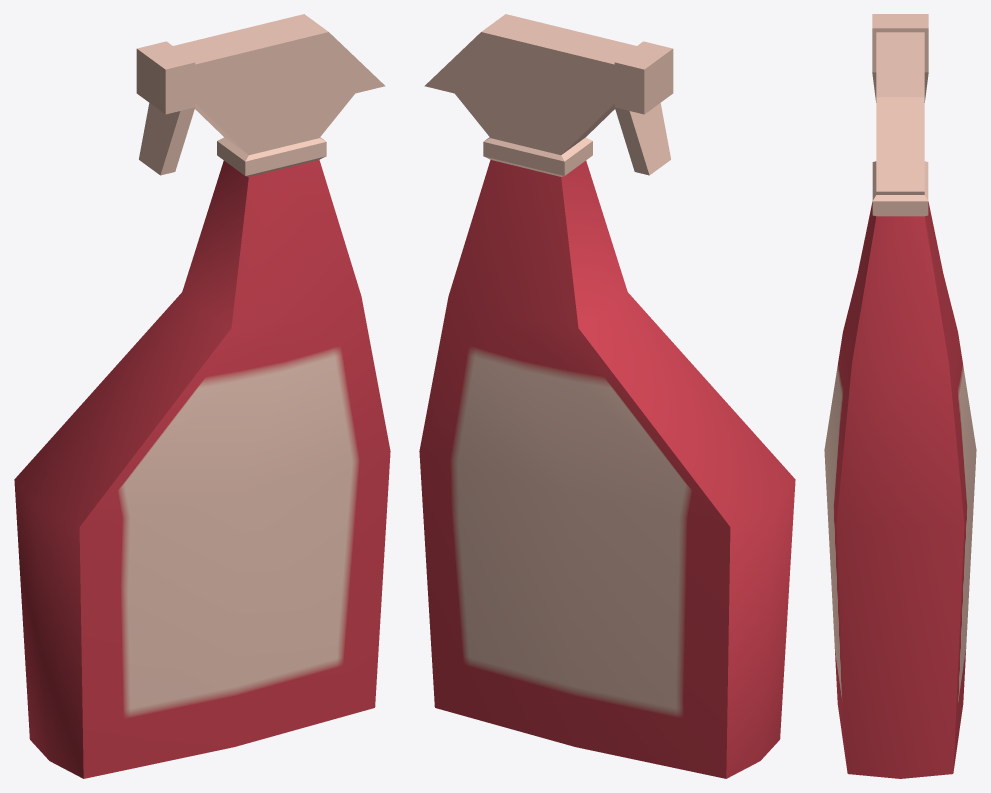
The model's file is SM_Detergent_1_01.fbx.
3 renders of one model, left to right at view 1: azimuth 30°, elevation 25°; view 2: azimuth 150°, elevation 25°; view 3: azimuth 270°, elevation 25°, orthographic.
Visible parts, largest first — view 1: SM_Detergent_1_01; view 2: SM_Detergent_1_01; view 3: SM_Detergent_1_01.
Part boxes in pixels (left/top/right/bottom): SM_Detergent_1_01: left=14, top=14, right=390, bottom=778; SM_Detergent_1_01: left=419, top=14, right=795, bottom=778; SM_Detergent_1_01: left=824, top=14, right=976, bottom=778.
Bounding box in the file's own units: 11.79 × 22.44 × 4.65.
